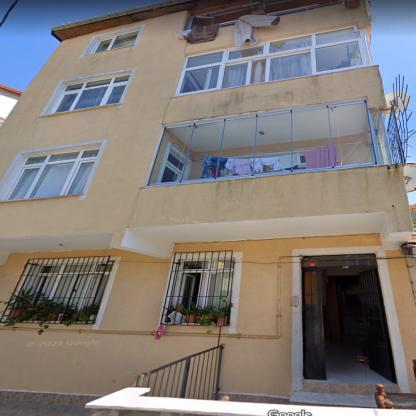door: (360, 271, 393, 380), (304, 270, 322, 379)
window: (149, 101, 374, 184), (178, 27, 364, 93), (5, 148, 98, 199), (27, 262, 114, 302), (51, 74, 129, 113), (174, 259, 232, 304), (93, 31, 138, 52), (302, 254, 374, 266)
